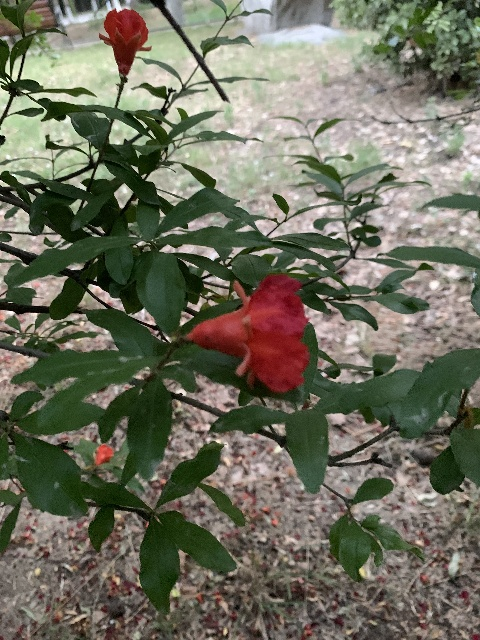flower: (186, 273, 310, 393), (99, 7, 151, 75), (95, 444, 113, 465)
